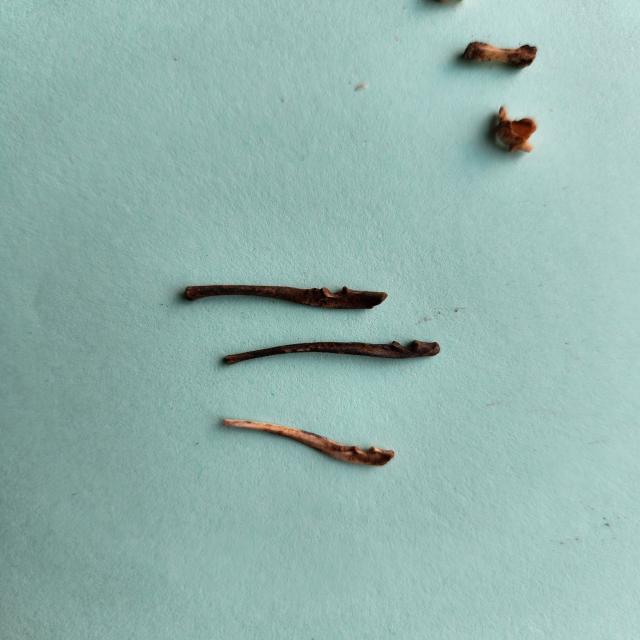fossil: (214, 412, 410, 473), (173, 272, 401, 317), (212, 331, 450, 371), (480, 101, 550, 162), (456, 35, 552, 79)
